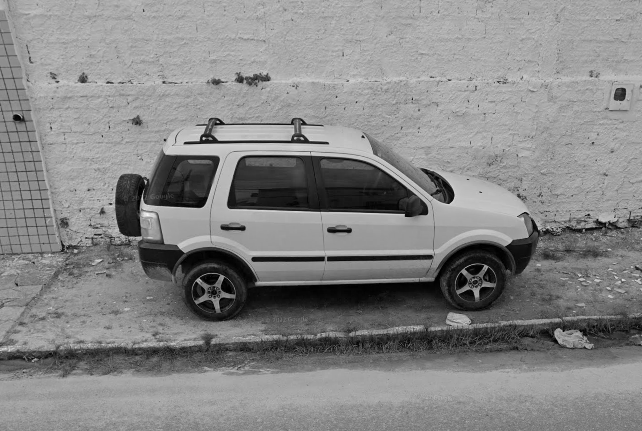car: (103, 106, 547, 322)
